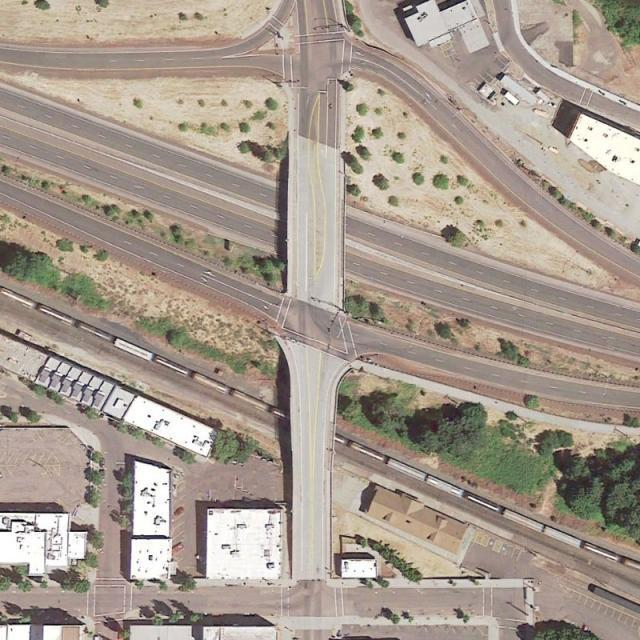vehicle: (173, 506, 183, 517), (170, 543, 182, 552)
